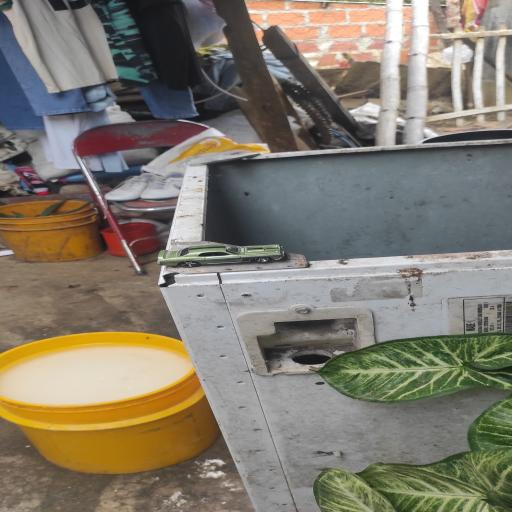Carrito: (158, 244, 285, 268)
